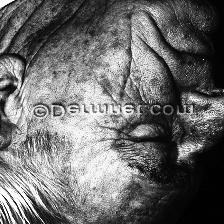Potentially Malignant Skin Tumors: (184, 119, 222, 152)
